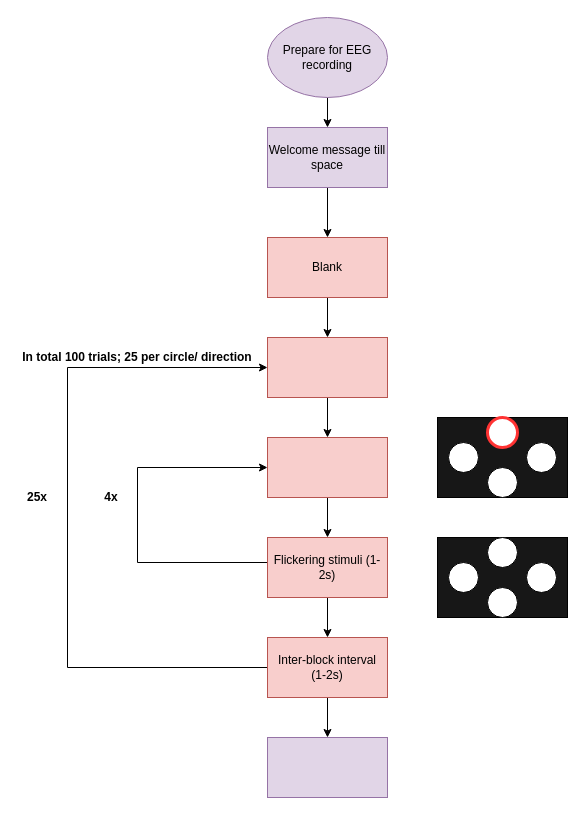
Some shapes in this 585 by 815 pixel diagram are drawn without their labels. The centre of each missing label's shape, as x and y in pixels:
Focus message: look at red (space): point (327, 367)
Show stimuli (1-2s) with red circle: point (327, 467)
Thank you message: point (327, 767)
